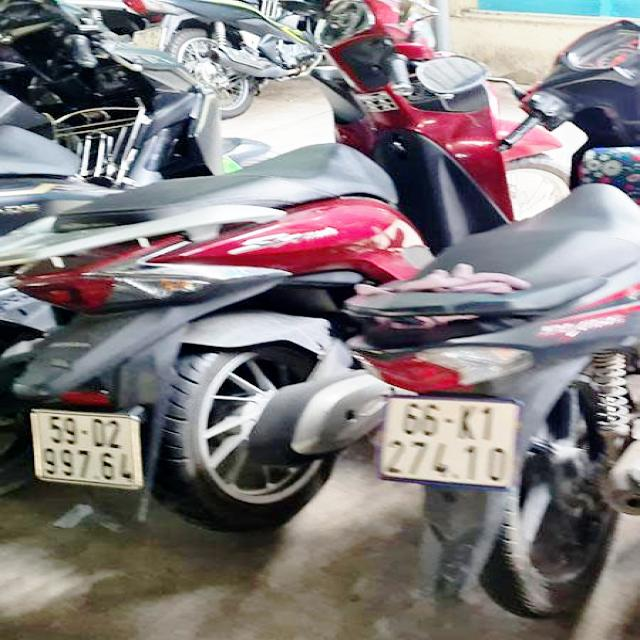license_plate: (380, 399, 518, 492), (27, 411, 144, 485)
